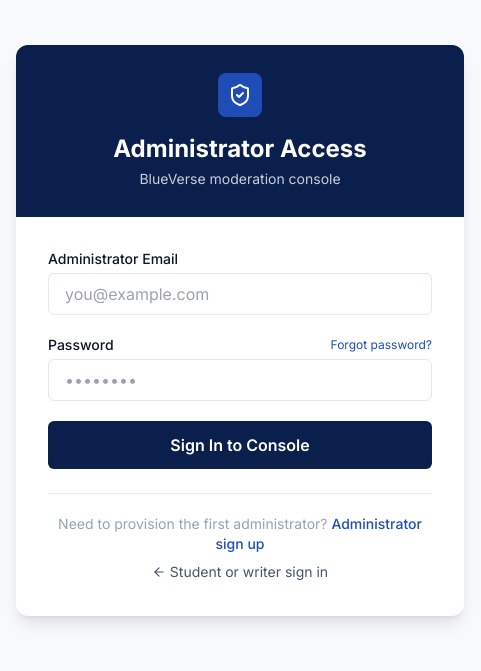
Scenario: AdminSignInPage › refuses a suspended administrator
Step 1. Type "admin@example.com" into the field labelled "Administrator Email" → (240, 294), box x1=48 y1=272 x2=432 y2=314
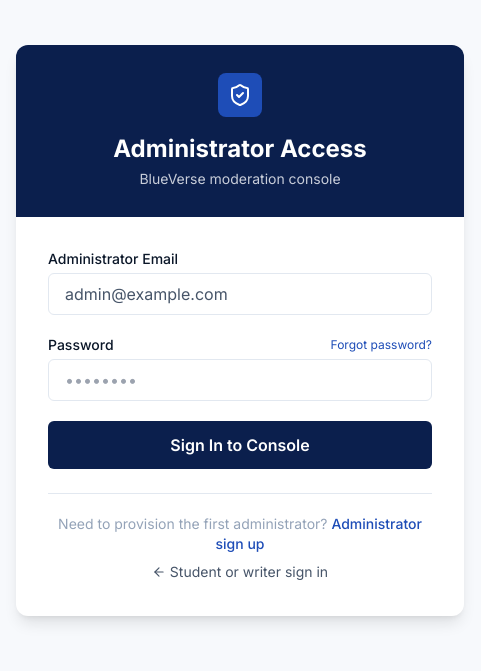
Step 2. Type "a long enough password" into the password field labelled "Password" → (240, 380), box x1=48 y1=358 x2=432 y2=400
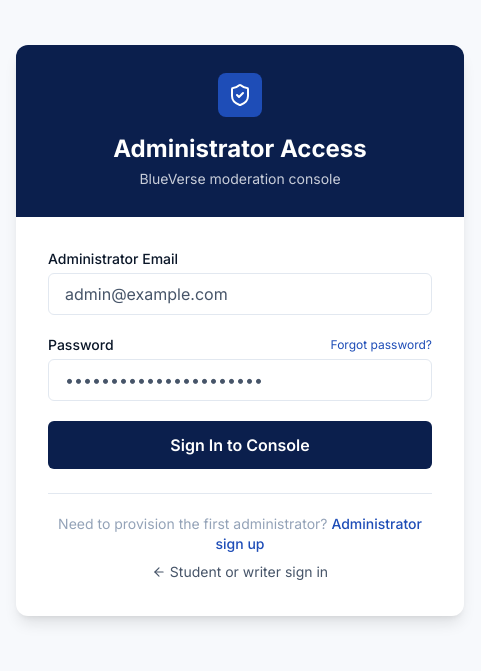
Step 3. Click the button "Sign In to Console" → (240, 444), box x1=48 y1=420 x2=432 y2=468
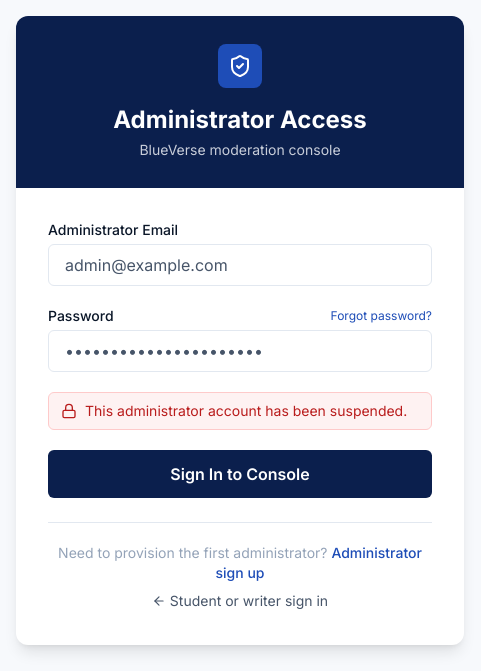
Expected: the message shows "suspended", x1=85 y1=402 x2=407 y2=418
